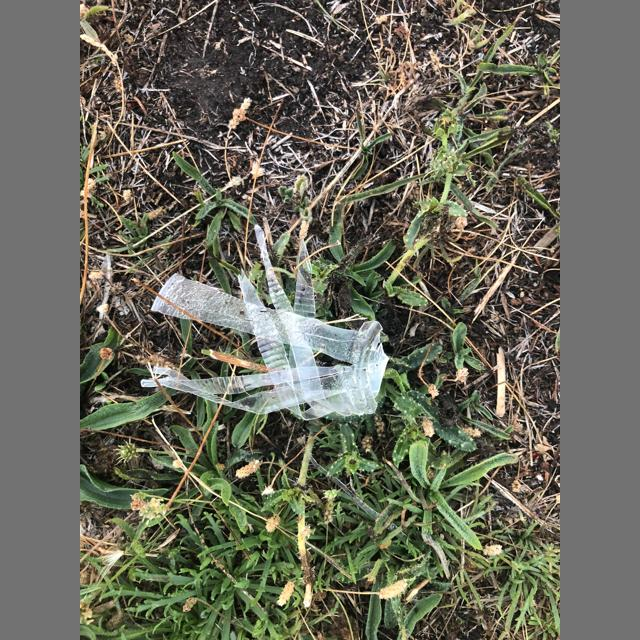litter: (141, 225, 389, 420)
